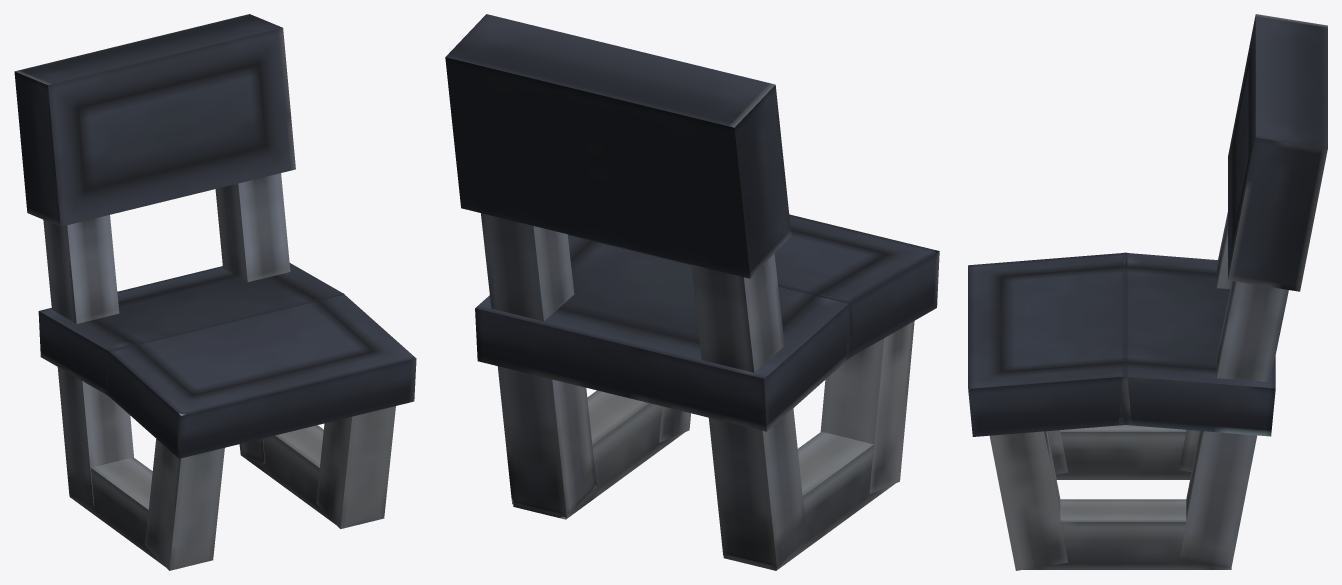
Rendered from Chair_01.fbx.
3 views of the same model, side by side, from view 1: azimuth 30°, elevation 25°; view 2: azimuth 150°, elevation 25°; view 3: azimuth 270°, elevation 25° (orthographic). The views are drawn at different scales.
Visible parts, largest first — view 1: cube_3, cube_1, cube_2, cube_10, cube_8, cube_7, cube_6, cube, cube_4, cube_5; view 2: cube_3, cube_2, cube_1, cube, cube_9, cube_10, cube_7, cube_6, cube_4, cube_5, cube_8; view 3: cube_1, cube_3, cube_2, cube_5, cube_8, cube_9, cube_4, cube_6, cube_7, cube_10, cube.
Part boxes in pixels (left/top/right/bottom): cube_3: left=14, top=14, right=295, bottom=226; cube_1: left=105, top=293, right=416, bottom=458; cube_2: left=38, top=263, right=344, bottom=395; cube_10: left=145, top=413, right=224, bottom=570; cube_8: left=316, top=406, right=395, bottom=528; cube_7: left=43, top=215, right=119, bottom=323; cube_6: left=215, top=173, right=290, bottom=281; cube: left=57, top=367, right=133, bottom=505; cube_4: left=69, top=457, right=164, bottom=566; cube_5: left=240, top=425, right=335, bottom=524; cube_3: left=445, top=14, right=791, bottom=278; cube_2: left=475, top=235, right=852, bottom=431; cube_1: left=567, top=214, right=939, bottom=359; cube: left=708, top=408, right=806, bottom=568; cube_9: left=497, top=366, right=596, bottom=517; cube_10: left=820, top=321, right=914, bottom=493; cube_7: left=691, top=253, right=784, bottom=372; cube_6: left=481, top=213, right=574, bottom=321; cube_4: left=723, top=431, right=894, bottom=570; cube_5: left=513, top=390, right=684, bottom=519; cube_8: left=659, top=406, right=690, bottom=442; cube_1: left=968, top=252, right=1131, bottom=436; cube_3: left=1228, top=14, right=1327, bottom=291; cube_2: left=1119, top=252, right=1275, bottom=436; cube_5: left=1023, top=499, right=1231, bottom=569; cube_8: left=989, top=431, right=1068, bottom=570; cube_9: left=1179, top=431, right=1257, bottom=568; cube_4: left=1056, top=425, right=1191, bottom=479; cube_6: left=1216, top=281, right=1288, bottom=382; cube_7: left=1216, top=212, right=1231, bottom=289; cube_10: left=1047, top=430, right=1068, bottom=474; cube: left=1179, top=430, right=1199, bottom=471.
Size of the model in its own units: 68.75 by 114 by 84.45.
Materials: 1 (1 with a texture image).
